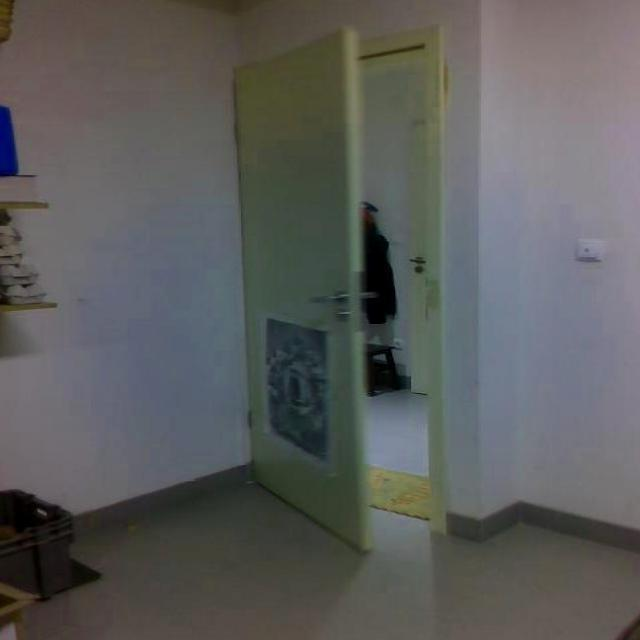door: (226, 22, 378, 558)
